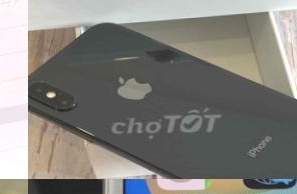scratch: (59, 100, 88, 111)
